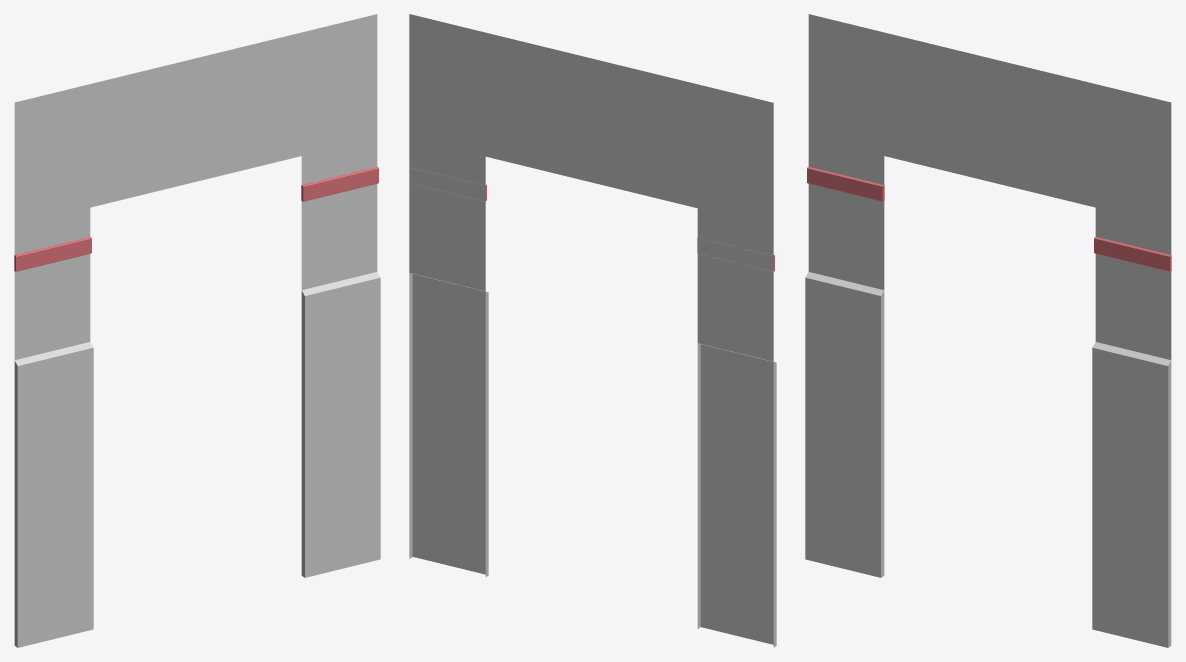
The model's file is Hallway_Wall.007.fbx.
3 views of the same model, side by side, from view 1: azimuth 30°, elevation 25°; view 2: azimuth 150°, elevation 25°; view 3: azimuth 330°, elevation 25° (orthographic).
Visible parts, largest first — view 1: Hallway_Wall.007; view 2: Hallway_Wall.007; view 3: Hallway_Wall.007.
Boxes of the visible parts, box(x1,y1,x2,y2) form: Hallway_Wall.007: box(14, 14, 380, 647); Hallway_Wall.007: box(409, 14, 776, 647); Hallway_Wall.007: box(805, 14, 1171, 647).
Bounding box in the file's own units: 192 × 275 × 3.16.
